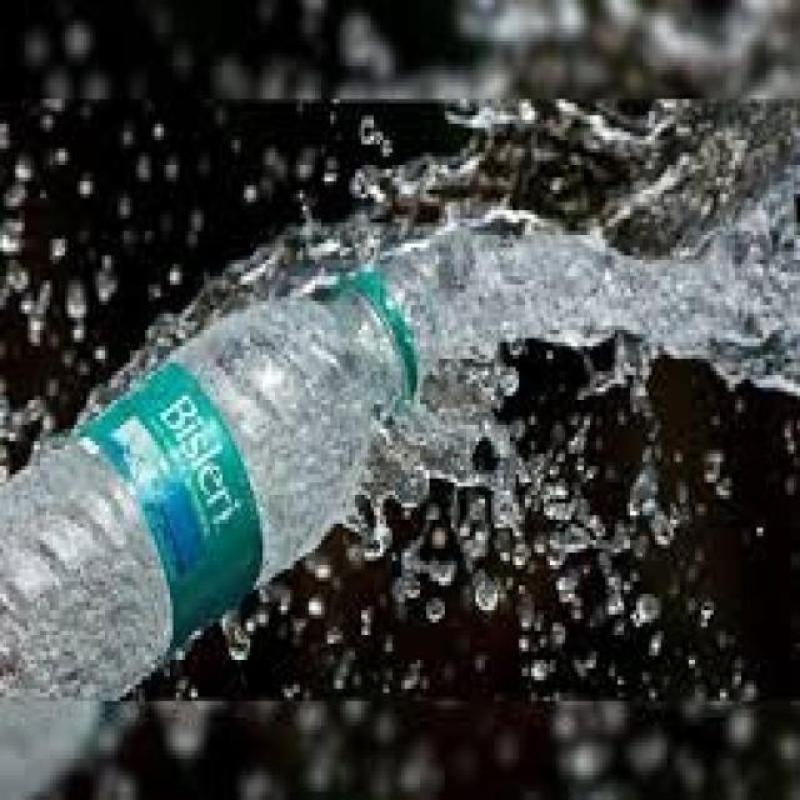botella: (0, 272, 424, 709)
